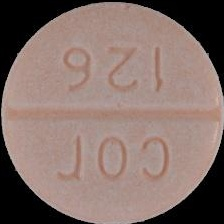64720-126: (0, 0, 224, 224)
